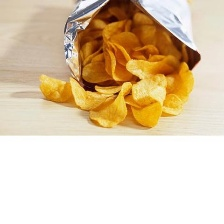snack: (59, 0, 208, 96)
